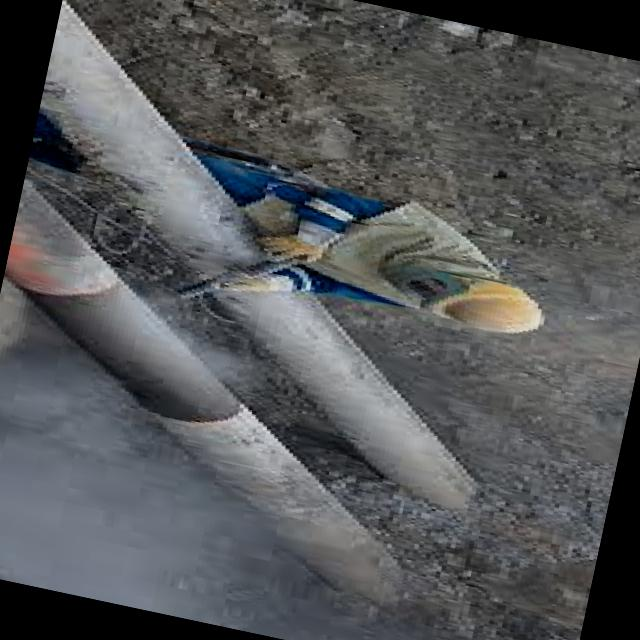gas: (3, 182, 397, 601), (39, 2, 257, 271), (220, 293, 471, 507)
